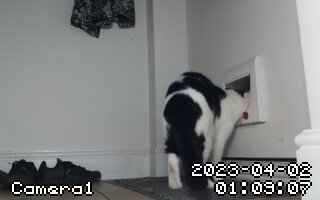bad: (159, 69, 248, 190)
